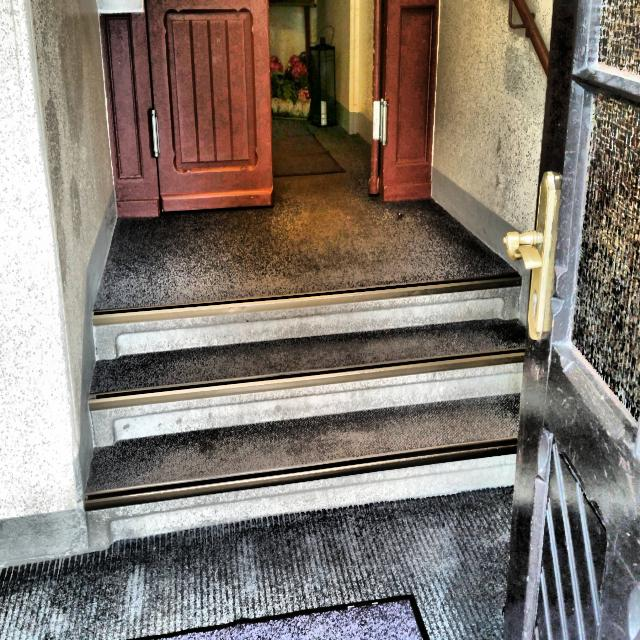escada: (74, 274, 535, 540)
